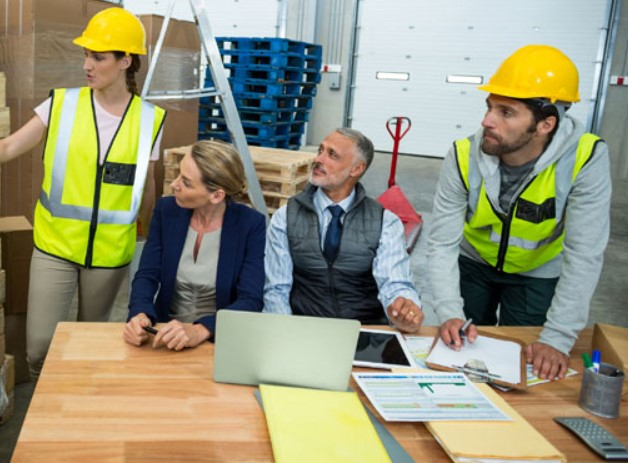worker: (32, 7, 164, 268), (461, 44, 579, 274)
